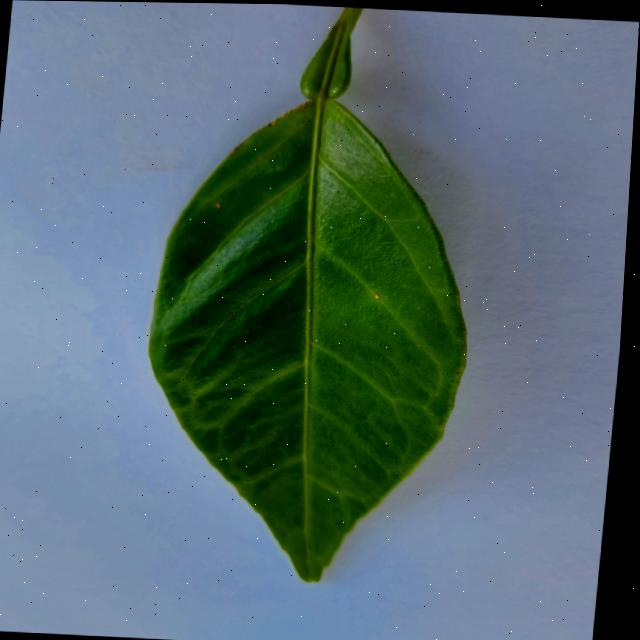greening: (148, 6, 464, 579)
